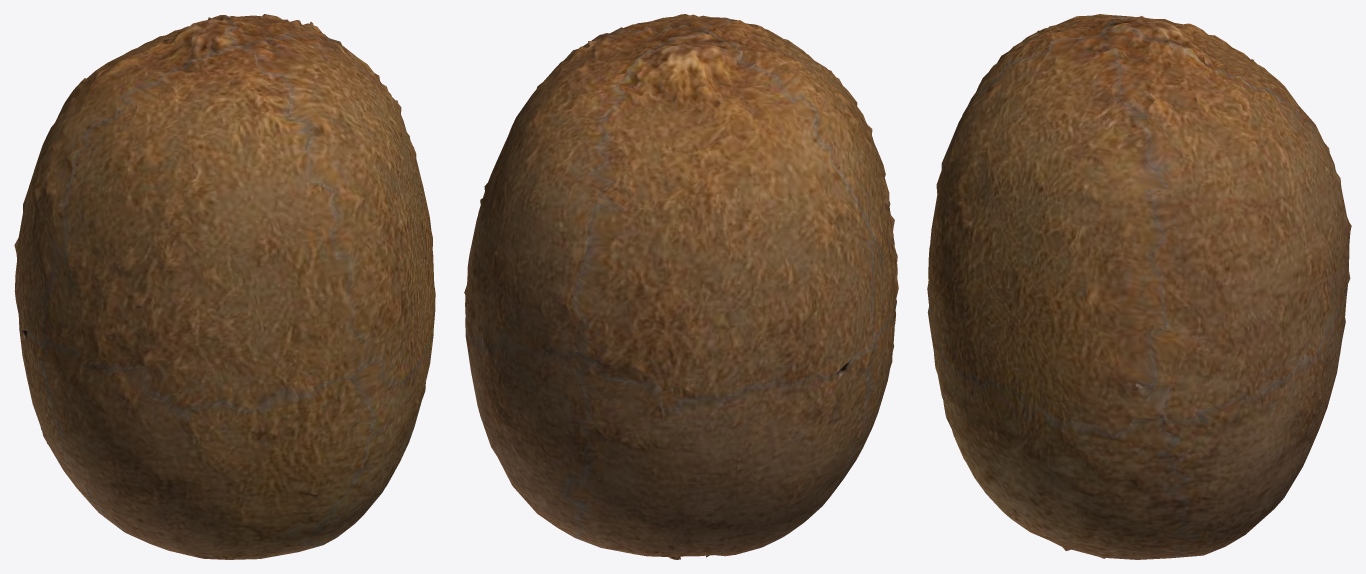
File: food_kiwi_01.glb
3 renders of one model, left to right at view 1: azimuth 30°, elevation 25°; view 2: azimuth 150°, elevation 25°; view 3: azimuth 270°, elevation 25°, orthographic.
Parts seen in each view (by area): view 1: food_kiwi_01; view 2: food_kiwi_01; view 3: food_kiwi_01.
Part boxes in pixels (x1,y1,x2,y2): food_kiwi_01: (14, 14, 435, 559); food_kiwi_01: (464, 14, 898, 559); food_kiwi_01: (927, 14, 1351, 559).
Bounding box in the file's own units: 0.0695 × 0.0901 × 0.0686.
1 material, 1 textured.
